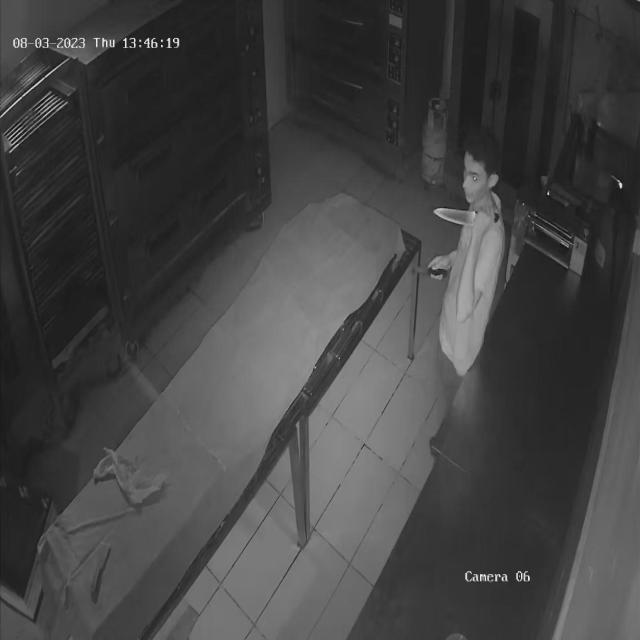Knife: (427, 196, 512, 232)
